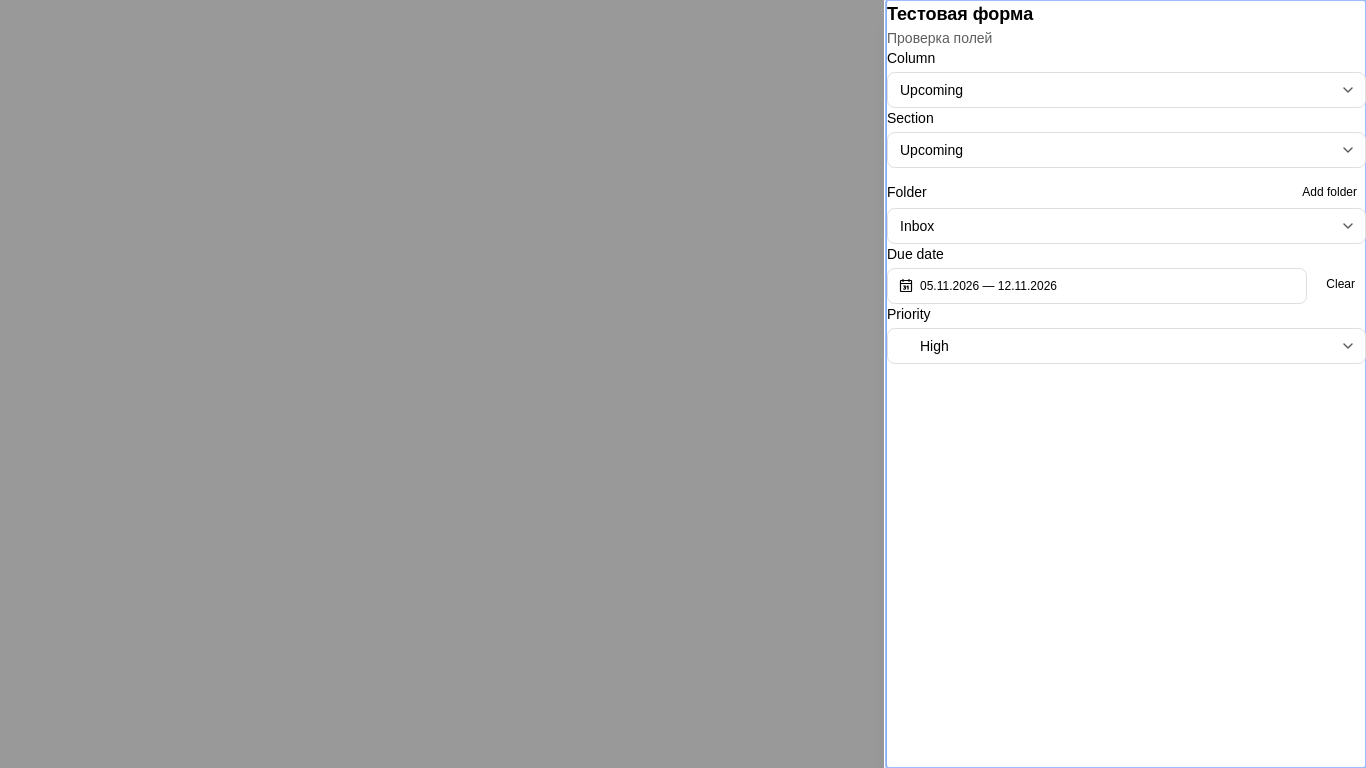
Test: board modal schedule fields › shows an error and enables the form after folder creation fails
Click the button "Add folder" at (1330, 192), box [1293,180,1365,204]
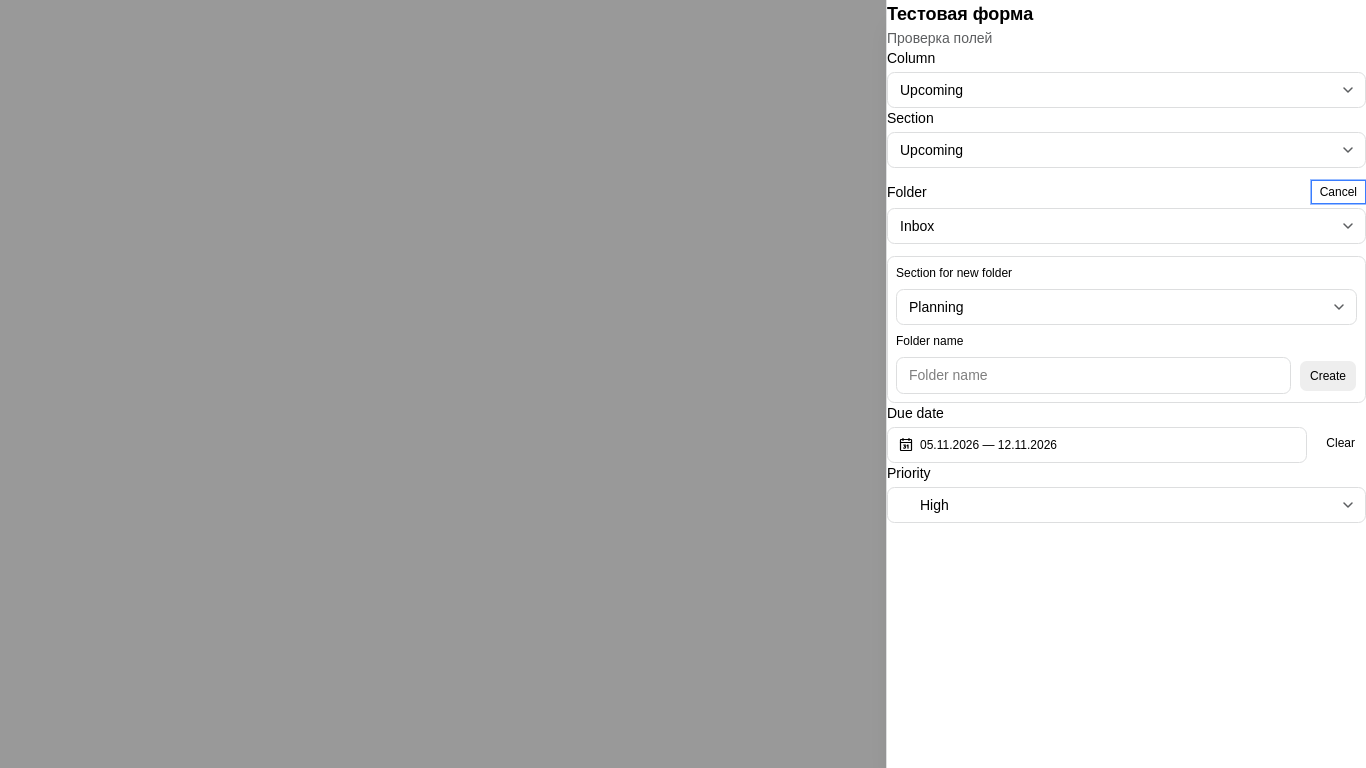
Type "Broken" into the field labelled "Folder name" at (1094, 376), box [896,357,1291,394]
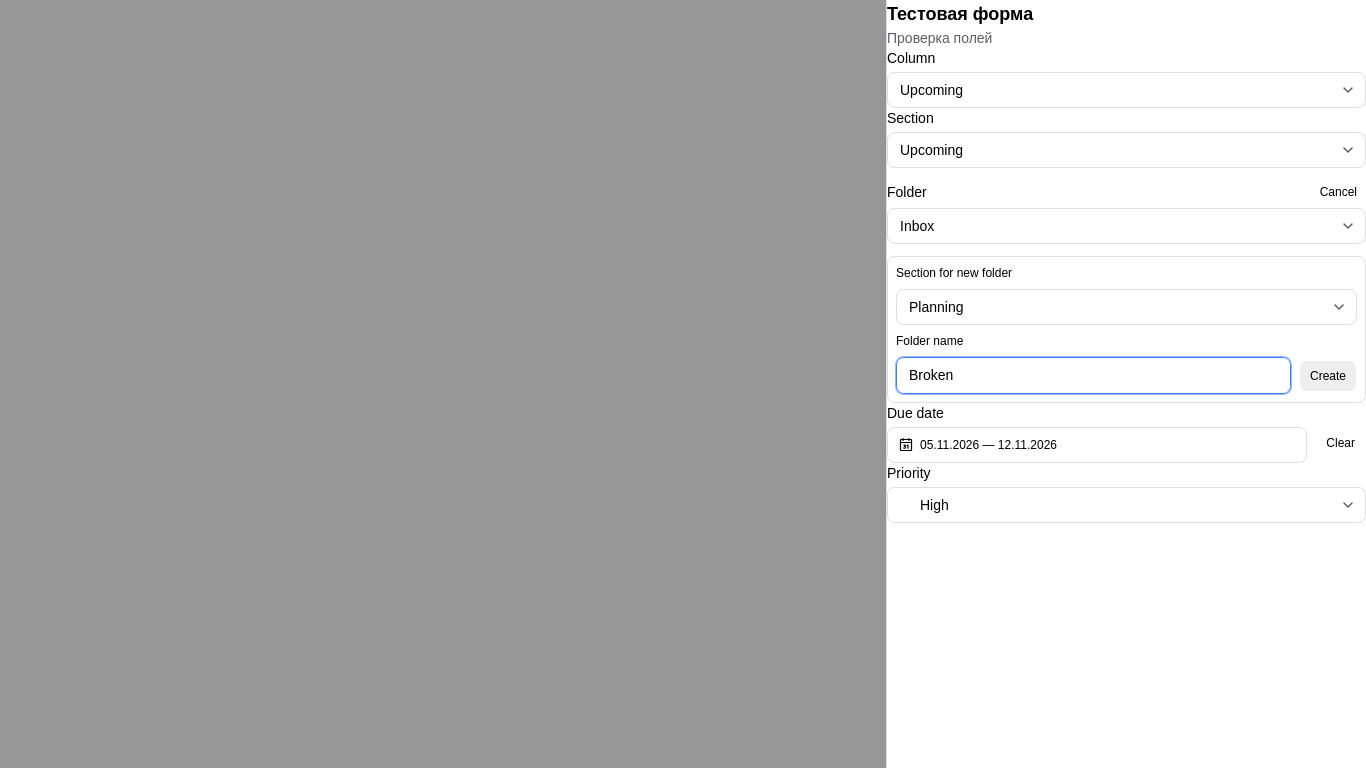
Click the button "Create" at (1328, 376), box [1299,360,1357,392]
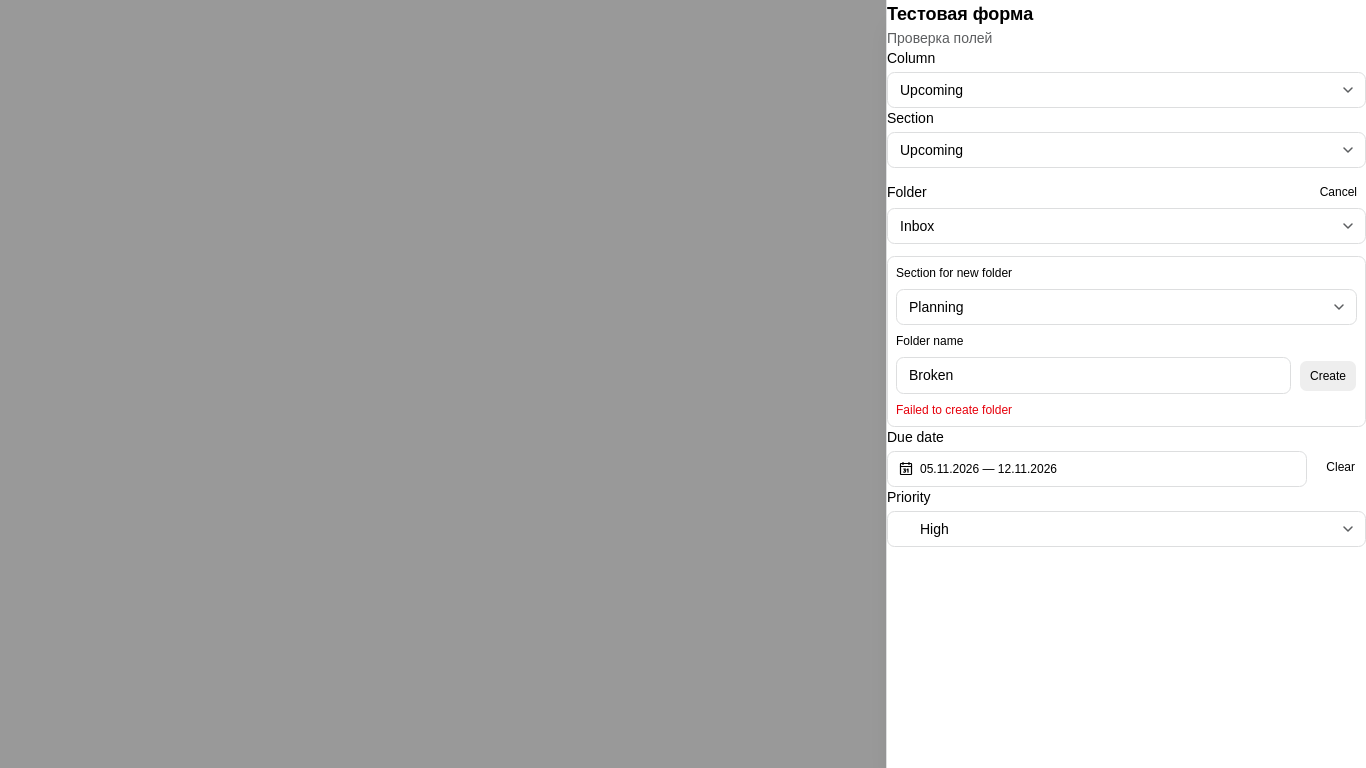
Expected: the button "Create" is enabled, [1299,360,1357,392]
Expected: the message reads "Failed to create folder", [896,403,1012,417]
